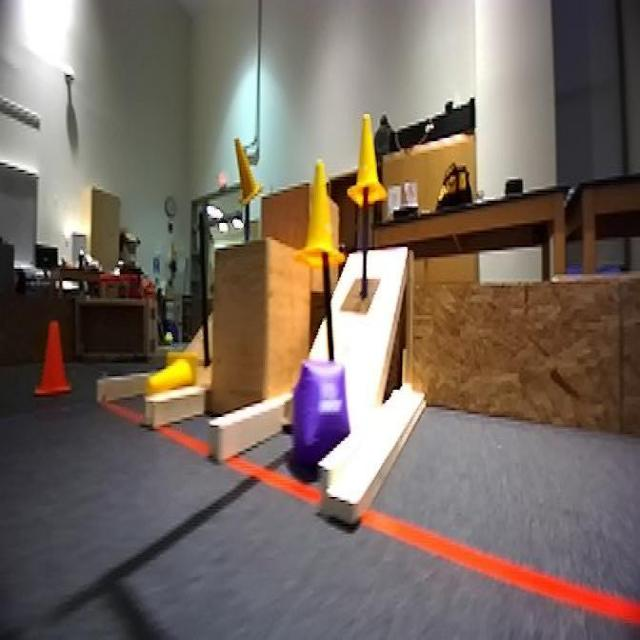frc_cone: (346, 110, 386, 208), (304, 160, 341, 260), (145, 352, 199, 398), (235, 136, 265, 210)
frc_cube: (288, 354, 352, 463)
